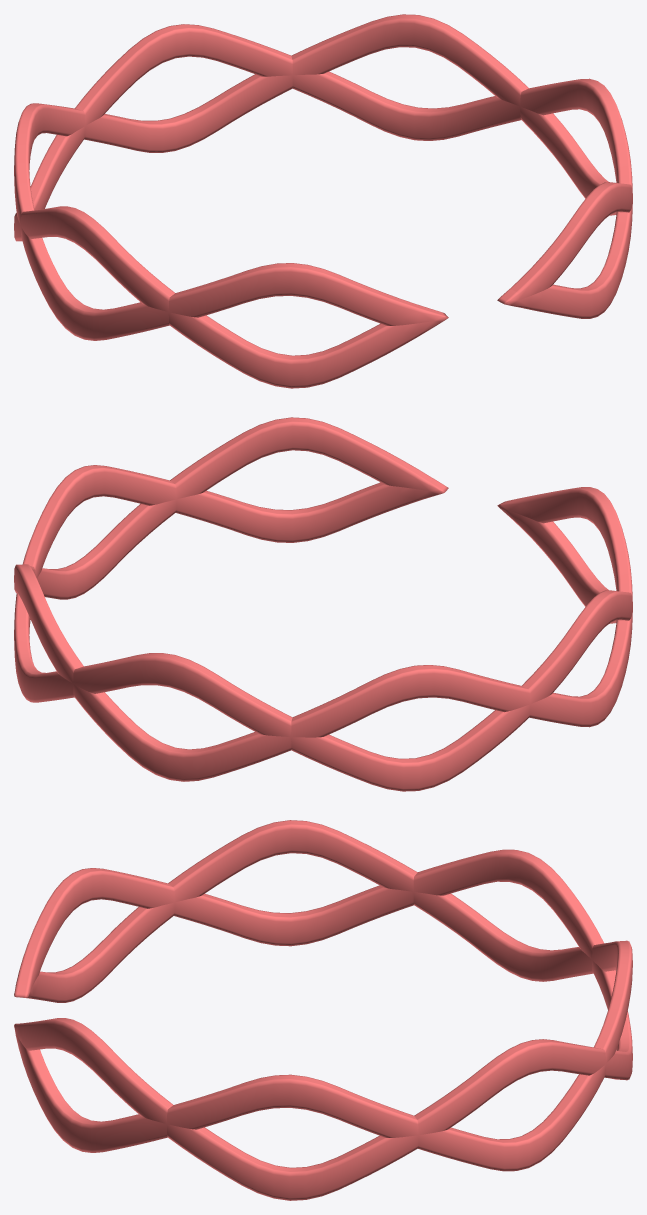
The model's file is 2-pink.fbx.
The picture shows the model from 3 angles, top to bottom: view 1: azimuth 30°, elevation 25°; view 2: azimuth 150°, elevation 25°; view 3: azimuth 270°, elevation 25°; orthographic projection.
Parts seen in each view (by area): view 1: Cylinder006, Cylinder005; view 2: Cylinder005, Cylinder006; view 3: Cylinder006, Cylinder005.
Part boxes in pixels (left/top/right/bottom): Cylinder006: left=14, top=24, right=632, bottom=388; Cylinder005: left=14, top=14, right=632, bottom=340; Cylinder005: left=14, top=417, right=632, bottom=781; Cylinder006: left=14, top=465, right=632, bottom=791; Cylinder006: left=14, top=820, right=632, bottom=1171; Cylinder005: left=14, top=849, right=632, bottom=1200.
Bounding box in the file's own units: 19.97 × 4.3 × 19.9.
